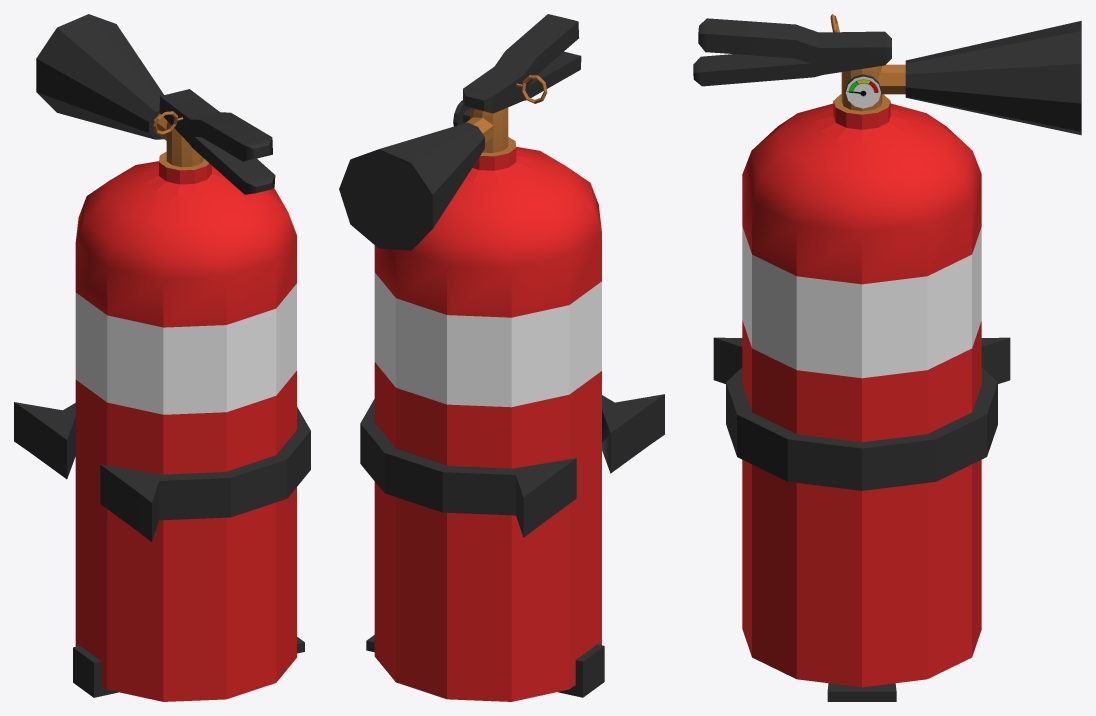
File: Extinguisher.obj
3 renders of one model, left to right at view 1: azimuth 30°, elevation 25°; view 2: azimuth 150°, elevation 25°; view 3: azimuth 270°, elevation 25°, orthographic. The views are drawn at different scales.
Parts seen in each view (by area): view 1: Extinguisher_Mesh.003, Top_Bolt_Mesh.001, Bottom_bolt_Mesh.002; view 2: Extinguisher_Mesh.003, Top_Bolt_Mesh.001, Bottom_bolt_Mesh.002; view 3: Extinguisher_Mesh.003, Top_Bolt_Mesh.001, Bottom_bolt_Mesh.002.
Boxes of the visible parts, left/top/right/bottom form: Extinguisher_Mesh.003: left=36, top=14, right=296, bottom=701; Top_Bolt_Mesh.001: left=14, top=402, right=310, bottom=541; Bottom_bolt_Mesh.002: left=73, top=637, right=304, bottom=697; Extinguisher_Mesh.003: left=339, top=14, right=601, bottom=701; Top_Bolt_Mesh.001: left=360, top=394, right=664, bottom=537; Bottom_bolt_Mesh.002: left=366, top=635, right=604, bottom=697; Extinguisher_Mesh.003: left=693, top=14, right=1081, bottom=687; Top_Bolt_Mesh.001: left=713, top=337, right=1010, bottom=490; Bottom_bolt_Mesh.002: left=827, top=683, right=896, bottom=701.
Bounding box in the file's own units: 2.17 × 5.67 × 3.21.
Materials: 1 (1 with a texture image).
